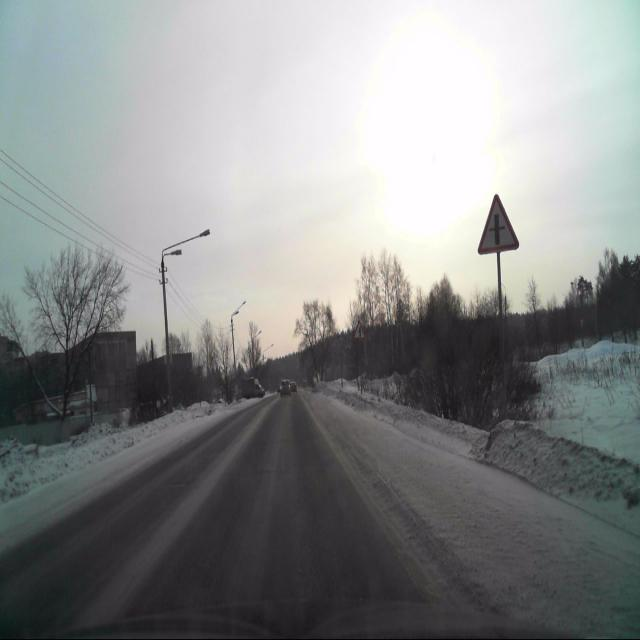road sign: (478, 193, 519, 251), (497, 251, 508, 420), (354, 321, 366, 339), (360, 341, 363, 396)
